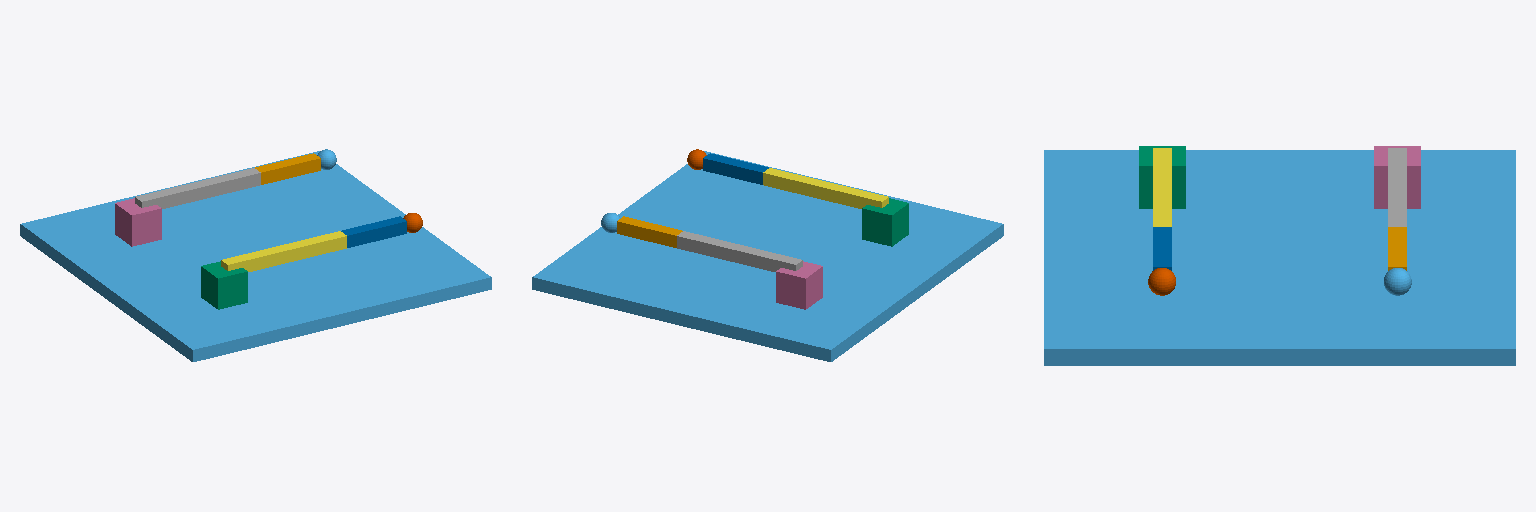
The robot description file, URDF, robot "synthetic_dual":
<?xml version="1.0"?>
<!-- Synthetic two-arm cell for the dual_cut_coordinator gtests. Each arm: a 0.1 m box base, two
     yaw joints (joint1, joint2) about world z at height 0.1, link1 = 0.4 x 0.04 x 0.04 box along
     +x, link2 = 0.2 x 0.04 x 0.04 box along +x, a 0.03 m sphere "tool" at the end. The left base is
     at the origin, the right base at y = 0.5, z = 0 (EXACTLY coplanar with the left arm: the bases
     are axis-aligned boxes at the same height, where FCL GJK distance overestimates). Hand-computable geometry; see test_swept_volume.cpp. -->
<robot name="synthetic_dual">
  <link name="world"/>
  <link name="table">
    <visual><geometry><box size="1.0 1.0 0.04"/></geometry></visual>
    <collision><geometry><box size="1.0 1.0 0.04"/></geometry></collision>
  </link>
  <joint name="world_to_table" type="fixed">
    <parent link="world"/><child link="table"/><origin xyz="0.25 0.25 -0.021"/>
  </joint>

  <!-- arm arm_left_ -->
  <link name="arm_left_base_link">
    <visual><geometry><box size="0.1 0.1 0.1"/></geometry><origin xyz="0 0 0.05"/></visual>
    <collision><geometry><box size="0.1 0.1 0.1"/></geometry><origin xyz="0 0 0.05"/></collision>
  </link>
  <joint name="world_to_arm_left_base" type="fixed">
    <parent link="world"/><child link="arm_left_base_link"/><origin xyz="0 0.0 0"/>
  </joint>
  <link name="arm_left_link1">
    <visual><geometry><box size="0.4 0.04 0.04"/></geometry><origin xyz="0.2 0 0"/></visual>
    <collision><geometry><box size="0.4 0.04 0.04"/></geometry><origin xyz="0.2 0 0"/></collision>
  </link>
  <joint name="arm_left_joint1" type="revolute">
    <parent link="arm_left_base_link"/><child link="arm_left_link1"/>
    <origin xyz="0 0 0.1"/><axis xyz="0 0 1"/>
    <limit lower="-3.2" upper="3.2" effort="10" velocity="1"/>
  </joint>
  <link name="arm_left_link2">
    <visual><geometry><box size="0.2 0.04 0.04"/></geometry><origin xyz="0.1 0 0"/></visual>
    <collision><geometry><box size="0.2 0.04 0.04"/></geometry><origin xyz="0.1 0 0"/></collision>
  </link>
  <joint name="arm_left_joint2" type="revolute">
    <parent link="arm_left_link1"/><child link="arm_left_link2"/>
    <origin xyz="0.4 0 0"/><axis xyz="0 0 1"/>
    <limit lower="-3.2" upper="3.2" effort="10" velocity="1"/>
  </joint>
  <link name="arm_left_tool">
    <visual><geometry><sphere radius="0.03"/></geometry><origin xyz="0.03 0 0"/></visual>
    <collision><geometry><sphere radius="0.03"/></geometry><origin xyz="0.03 0 0"/></collision>
  </link>
  <joint name="arm_left_tool_joint" type="fixed">
    <parent link="arm_left_link2"/><child link="arm_left_tool"/><origin xyz="0.2 0 0"/>
  </joint>

  <!-- arm arm_right_ -->
  <link name="arm_right_base_link">
    <visual><geometry><box size="0.1 0.1 0.1"/></geometry><origin xyz="0 0 0.05"/></visual>
    <collision><geometry><box size="0.1 0.1 0.1"/></geometry><origin xyz="0 0 0.05"/></collision>
  </link>
  <joint name="world_to_arm_right_base" type="fixed">
    <parent link="world"/><child link="arm_right_base_link"/><origin xyz="0 0.5 0"/>
  </joint>
  <link name="arm_right_link1">
    <visual><geometry><box size="0.4 0.04 0.04"/></geometry><origin xyz="0.2 0 0"/></visual>
    <collision><geometry><box size="0.4 0.04 0.04"/></geometry><origin xyz="0.2 0 0"/></collision>
  </link>
  <joint name="arm_right_joint1" type="revolute">
    <parent link="arm_right_base_link"/><child link="arm_right_link1"/>
    <origin xyz="0 0 0.1"/><axis xyz="0 0 1"/>
    <limit lower="-3.2" upper="3.2" effort="10" velocity="1"/>
  </joint>
  <link name="arm_right_link2">
    <visual><geometry><box size="0.2 0.04 0.04"/></geometry><origin xyz="0.1 0 0"/></visual>
    <collision><geometry><box size="0.2 0.04 0.04"/></geometry><origin xyz="0.1 0 0"/></collision>
  </link>
  <joint name="arm_right_joint2" type="revolute">
    <parent link="arm_right_link1"/><child link="arm_right_link2"/>
    <origin xyz="0.4 0 0"/><axis xyz="0 0 1"/>
    <limit lower="-3.2" upper="3.2" effort="10" velocity="1"/>
  </joint>
  <link name="arm_right_tool">
    <visual><geometry><sphere radius="0.03"/></geometry><origin xyz="0.03 0 0"/></visual>
    <collision><geometry><sphere radius="0.03"/></geometry><origin xyz="0.03 0 0"/></collision>
  </link>
  <joint name="arm_right_tool_joint" type="fixed">
    <parent link="arm_right_link2"/><child link="arm_right_tool"/><origin xyz="0.2 0 0"/>
  </joint>
</robot>

--- Facts derived from the render (not from the file) ---
Views: 3 orthographic renders of the robot side by side, from view 1: azimuth 30°, elevation 25°; view 2: azimuth 150°, elevation 25°; view 3: azimuth 270°, elevation 25°.
Robot: synthetic_dual — 10 links, 9 joints (4 revolute, 5 fixed); root link world; default pose: every joint at zero.
Visible links, largest first — view 1: table, arm_right_link1, arm_left_link1, arm_left_base_link, arm_right_base_link, arm_right_link2, arm_left_link2; view 2: table, arm_left_link1, arm_right_link1, arm_left_base_link, arm_right_base_link, arm_left_link2, arm_right_link2; view 3: table, arm_left_base_link, arm_right_base_link, arm_left_link1, arm_right_link1, arm_left_link2, arm_right_link2, arm_left_tool, arm_right_tool.
Boxes of the visible links, <box> form: table: <box>20,151,491,361</box>; arm_right_link1: <box>135,168,260,208</box>; arm_left_link1: <box>221,231,346,271</box>; arm_left_base_link: <box>201,261,247,309</box>; arm_right_base_link: <box>115,198,161,246</box>; arm_right_link2: <box>255,153,320,184</box>; arm_left_link2: <box>341,216,406,247</box>; table: <box>532,151,1003,361</box>; arm_left_link1: <box>763,168,888,208</box>; arm_right_link1: <box>677,231,802,271</box>; arm_left_base_link: <box>862,198,908,246</box>; arm_right_base_link: <box>776,261,822,309</box>; arm_left_link2: <box>703,153,768,184</box>; arm_right_link2: <box>617,216,682,247</box>; table: <box>1044,150,1515,365</box>; arm_left_base_link: <box>1139,146,1185,208</box>; arm_right_base_link: <box>1374,146,1420,208</box>; arm_left_link1: <box>1153,148,1171,226</box>; arm_right_link1: <box>1388,148,1406,226</box>; arm_left_link2: <box>1153,227,1171,270</box>; arm_right_link2: <box>1388,227,1406,270</box>; arm_left_tool: <box>1148,268,1175,295</box>; arm_right_tool: <box>1384,268,1411,295</box>.
Size in the robot's own frame: 1 by 1 by 0.171 metres.
Geometry: primitives only (box / cylinder / sphere), no mesh files.
